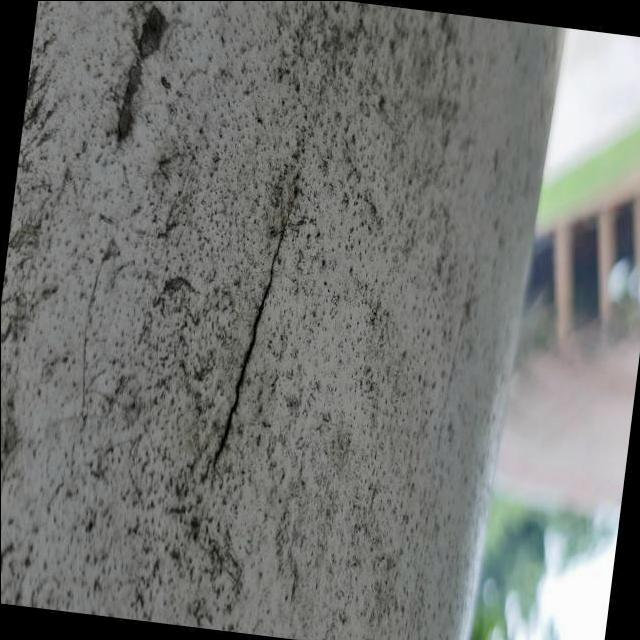defect: (198, 180, 298, 497)
